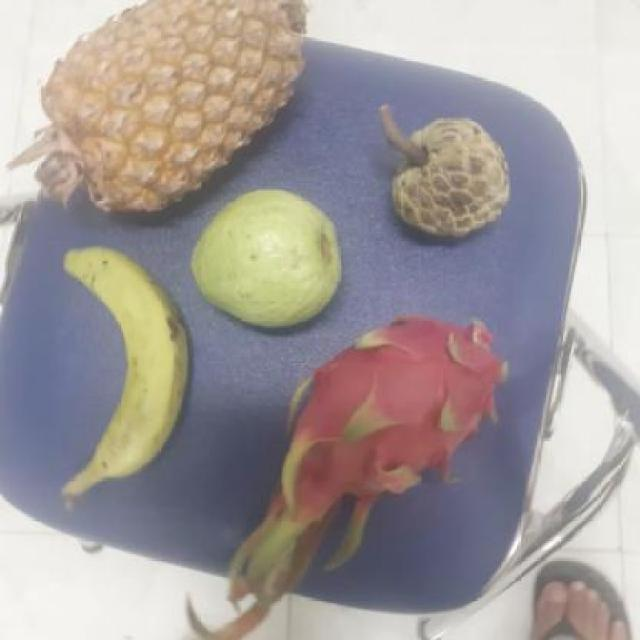banana: (58, 245, 198, 483)
dragon fruit: (282, 312, 516, 506)
guava: (190, 184, 350, 327)
sugar apple: (387, 116, 516, 242)
